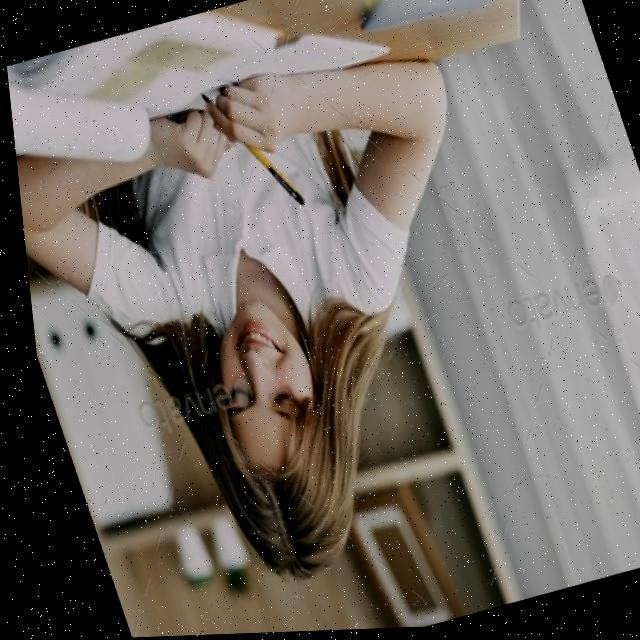studying-person: (0, 0, 575, 640)
